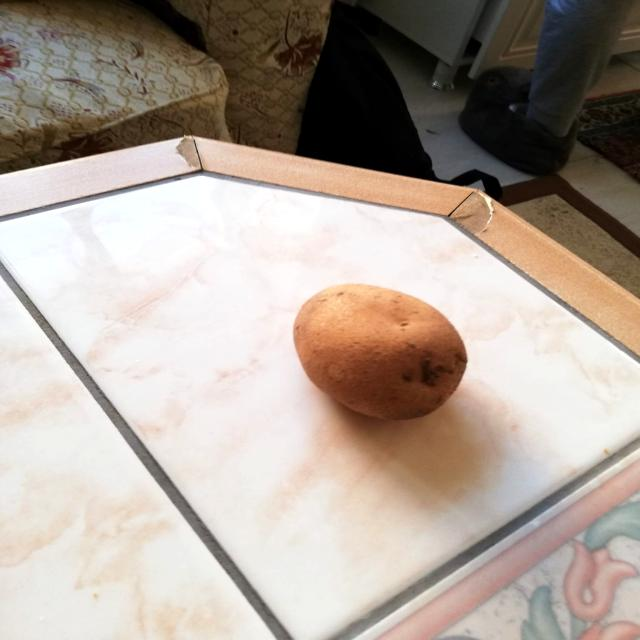potato: (282, 274, 479, 428)
